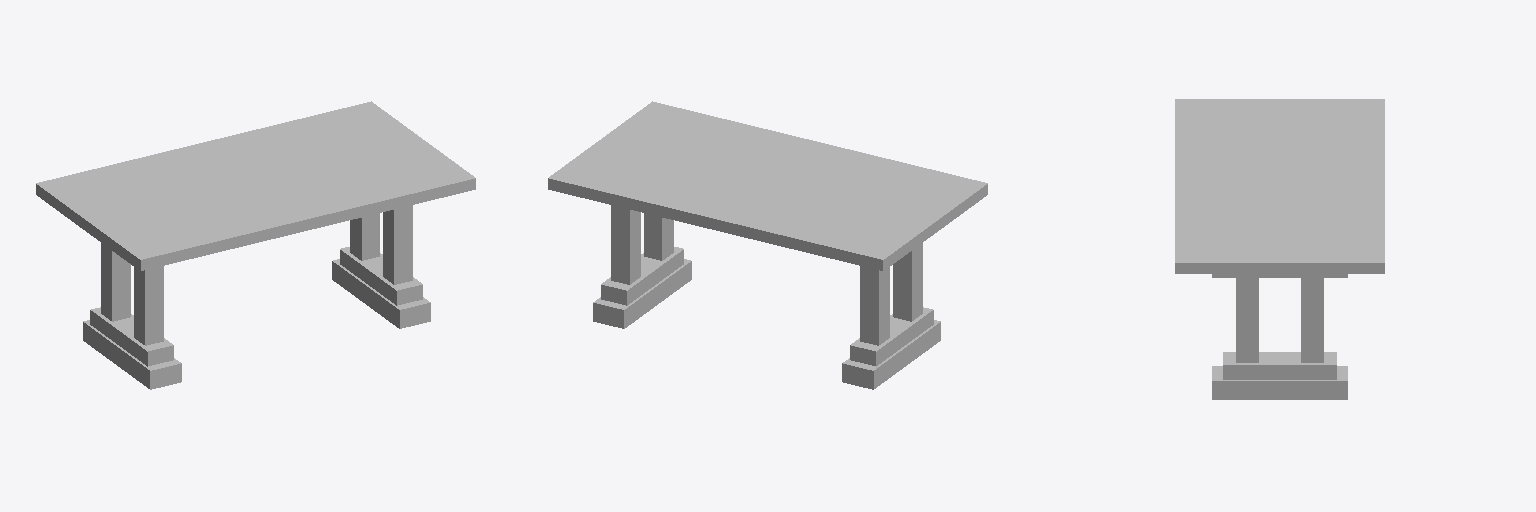
The model's file is entry_table.obj.
The picture shows the model from 3 angles: view 1: azimuth 30°, elevation 25°; view 2: azimuth 150°, elevation 25°; view 3: azimuth 270°, elevation 25°; orthographic projection.
Parts seen in each view (by area): view 1: Cube.001; view 2: Cube.001; view 3: Cube.001.
Boxes of the visible parts, x1,y1,x2,y2 form: Cube.001: [36, 101, 475, 389]; Cube.001: [548, 101, 987, 389]; Cube.001: [1175, 99, 1384, 399].
Size of the model in its own units: 11.24 by 4.81 by 6.08.